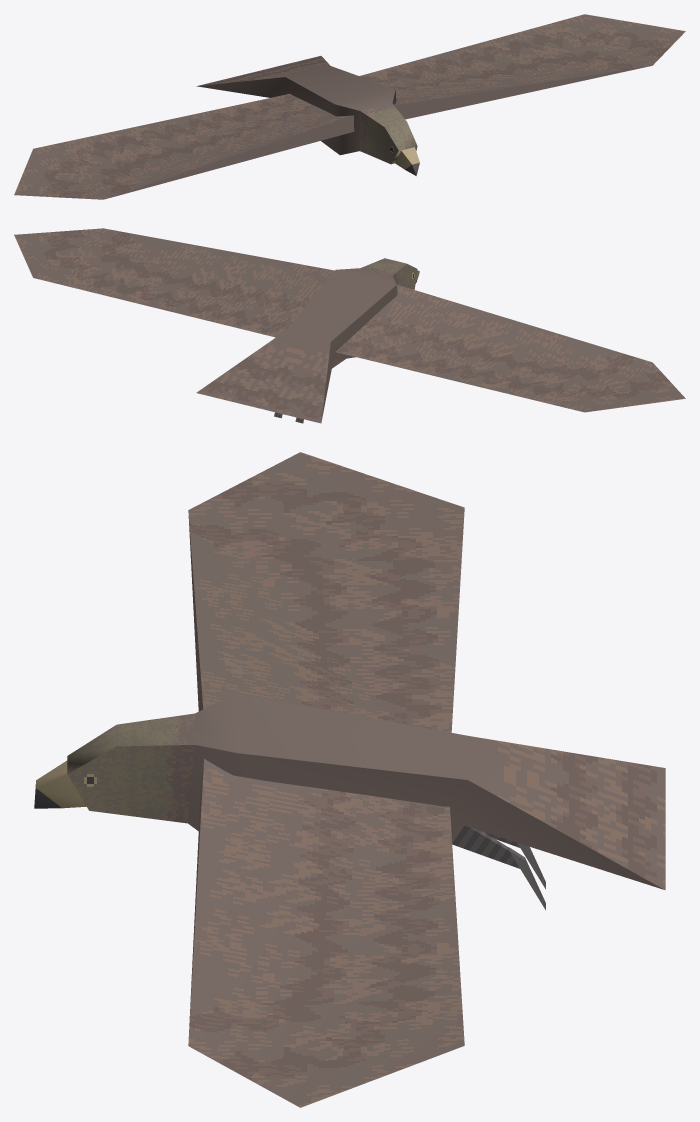
The model's file is 020b_Eagle.glb.
The picture shows the model from 3 angles, top to bottom: view 1: azimuth 30°, elevation 25°; view 2: azimuth 150°, elevation 25°; view 3: azimuth 270°, elevation 25°; orthographic projection. The views are drawn at different scales.
Visible parts, largest first — view 1: part_0; view 2: part_0; view 3: part_0.
Part boxes in pixels (x1,y1,x2,y2): part_0: [14, 14, 685, 199]; part_0: [14, 228, 685, 423]; part_0: [34, 452, 665, 1107].
Size of the model in its own units: 1.73 by 0.2123 by 0.7032.
1 material, 1 textured.
